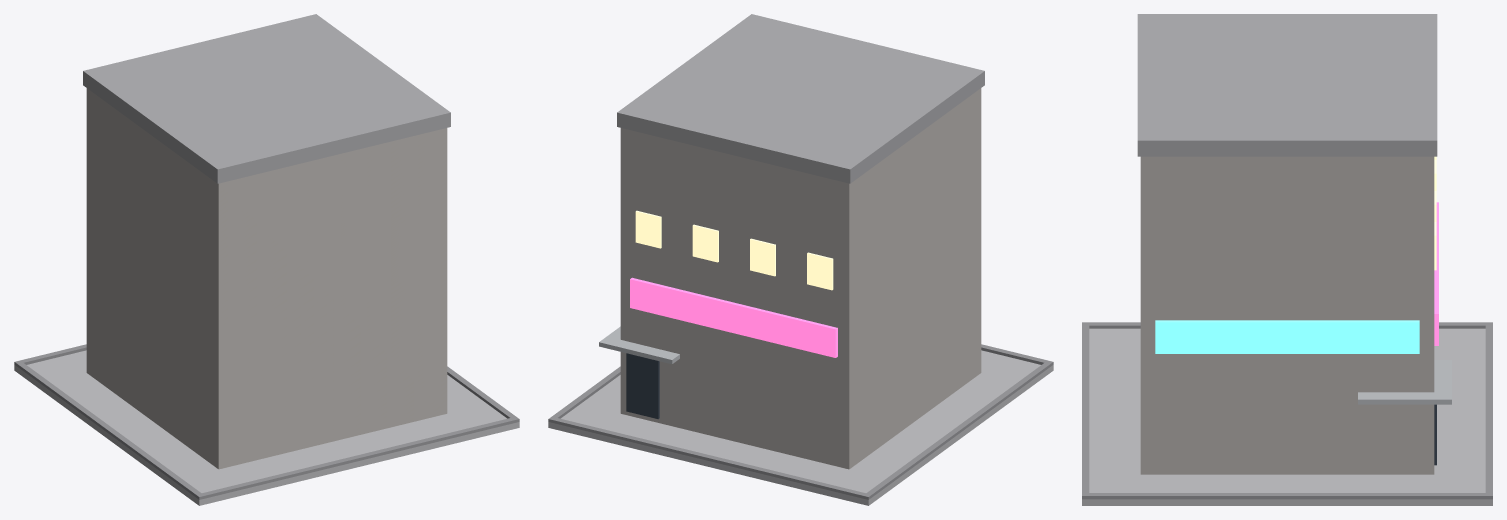
Rendered from bt-corner-building.glb.
3 renders of one model, left to right at view 1: azimuth 30°, elevation 25°; view 2: azimuth 150°, elevation 25°; view 3: azimuth 270°, elevation 25°, orthographic. The views are drawn at different scales.
Parts seen in each view (by area): view 1: body, parapet, skirt_slab, skirt_curb_s, skirt_curb_w, skirt_curb_e; view 2: body, parapet, skirt_slab, sign_n, skirt_curb_n, door_c, skirt_curb_w, canopy, win_3, win_0, win_2, win_1 (+1 smaller); view 3: body, parapet, skirt_slab, sign_e, skirt_curb_e, canopy, skirt_curb_n, skirt_curb_s, skirt_curb_w, sign_n.
Part boxes in pixels (left/top/right/bottom): body: left=86, top=88, right=447, bottom=469; parapet: left=83, top=14, right=450, bottom=183; skirt_slab: left=14, top=350, right=519, bottom=505; skirt_curb_s: left=196, top=416, right=519, bottom=499; skirt_curb_w: left=17, top=363, right=201, bottom=497; skirt_curb_e: left=447, top=366, right=515, bottom=418; body: left=620, top=88, right=981, bottom=469; parapet: left=617, top=14, right=984, bottom=183; skirt_slab: left=548, top=350, right=1053, bottom=505; sign_n: left=630, top=277, right=837, bottom=357; skirt_curb_n: left=548, top=416, right=871, bottom=499; door_c: left=626, top=353, right=659, bottom=419; skirt_curb_w: left=866, top=363, right=1050, bottom=497; canopy: left=599, top=326, right=679, bottom=364; win_3: left=635, top=210, right=661, bottom=248; win_0: left=807, top=252, right=833, bottom=290; win_2: left=692, top=224, right=718, bottom=262; win_1: left=750, top=238, right=775, bottom=276; body: left=1140, top=156, right=1434, bottom=474; parapet: left=1137, top=14, right=1437, bottom=156; skirt_slab: left=1082, top=328, right=1492, bottom=505; sign_e: left=1155, top=320, right=1419, bottom=353; skirt_curb_e: left=1089, top=493, right=1485, bottom=499; canopy: left=1358, top=360, right=1451, bottom=404; skirt_curb_n: left=1485, top=322, right=1492, bottom=499; skirt_curb_s: left=1082, top=322, right=1089, bottom=499; skirt_curb_w: left=1089, top=322, right=1485, bottom=328; sign_n: left=1434, top=202, right=1438, bottom=345.
Bounding box in the file's own units: 14 × 12.85 × 14.
